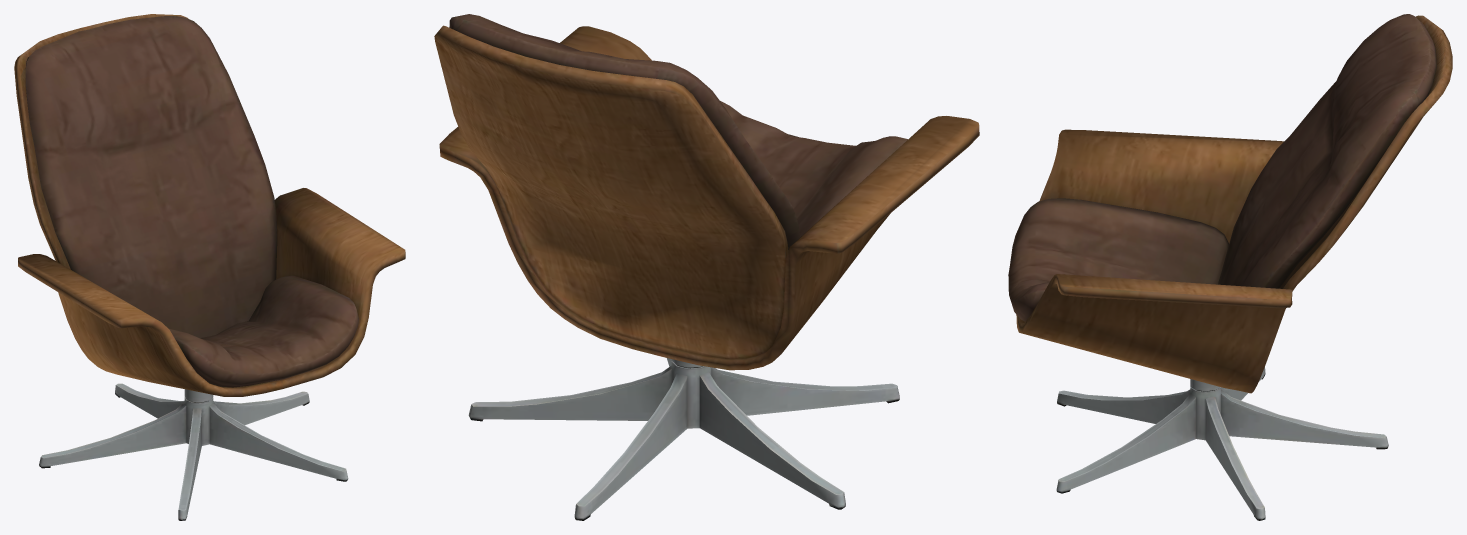
Rendered from mid_century_lounge_chair.glb.
3 views of the same model, side by side, from view 1: azimuth 30°, elevation 25°; view 2: azimuth 150°, elevation 25°; view 3: azimuth 270°, elevation 25° (orthographic). The views are drawn at different scales.
Visible parts, largest first — view 1: mid_century_lounge_chair; view 2: mid_century_lounge_chair; view 3: mid_century_lounge_chair.
Boxes of the visible parts, x1,y1,x2,y2 form: mid_century_lounge_chair: [14, 14, 405, 520]; mid_century_lounge_chair: [434, 14, 979, 520]; mid_century_lounge_chair: [1008, 14, 1452, 520].
Bounding box in the file's own units: 1.01 × 1.17 × 1.19.
Materials: 1 (1 with a texture image).
